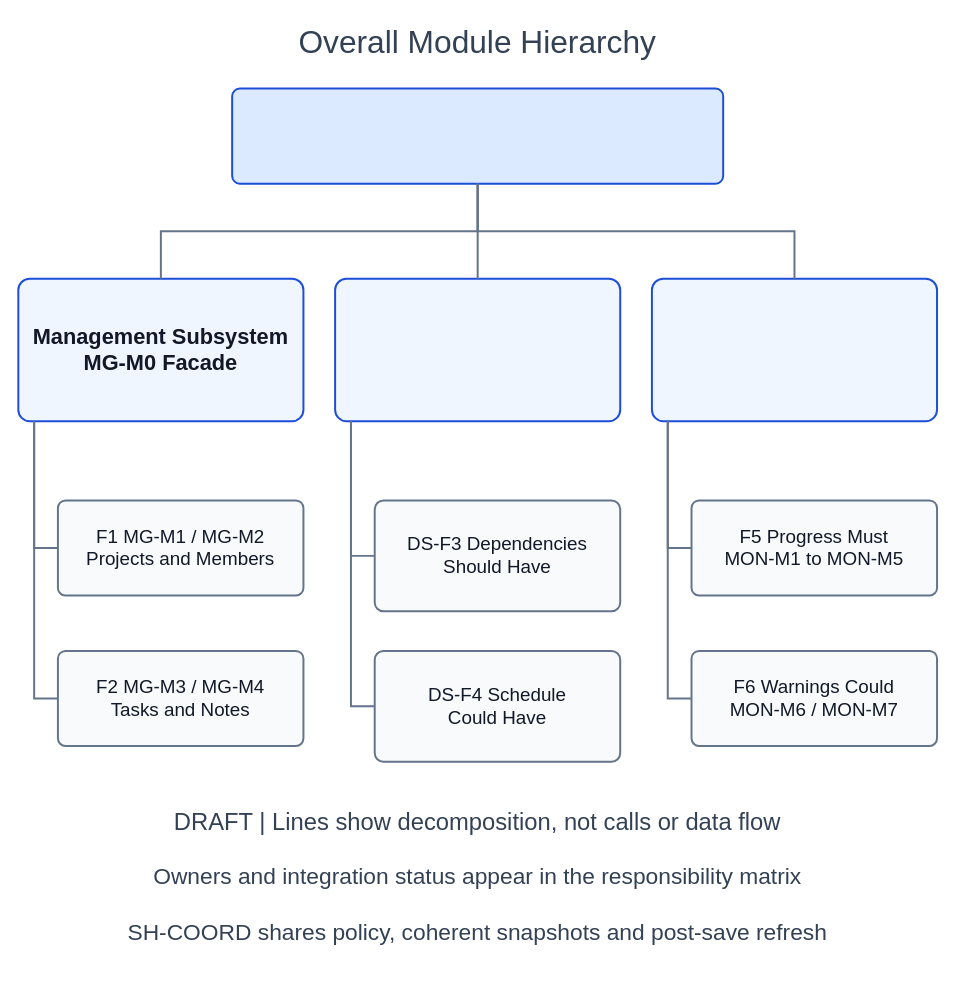
Some shapes in this 954 by 984 pixel diagram are drawn without their labels. The shapes that lost their labels are listed below. From the top down, each one's box as (x1, y1, x2, y2) in pixels, then its label:
(231, 87, 724, 184): Student Project Planning and Progress Tracking System
(334, 277, 621, 422): Dependency and Schedule Subsystem
(650, 277, 938, 422): Monitoring Subsystem MON-M0 Facade
